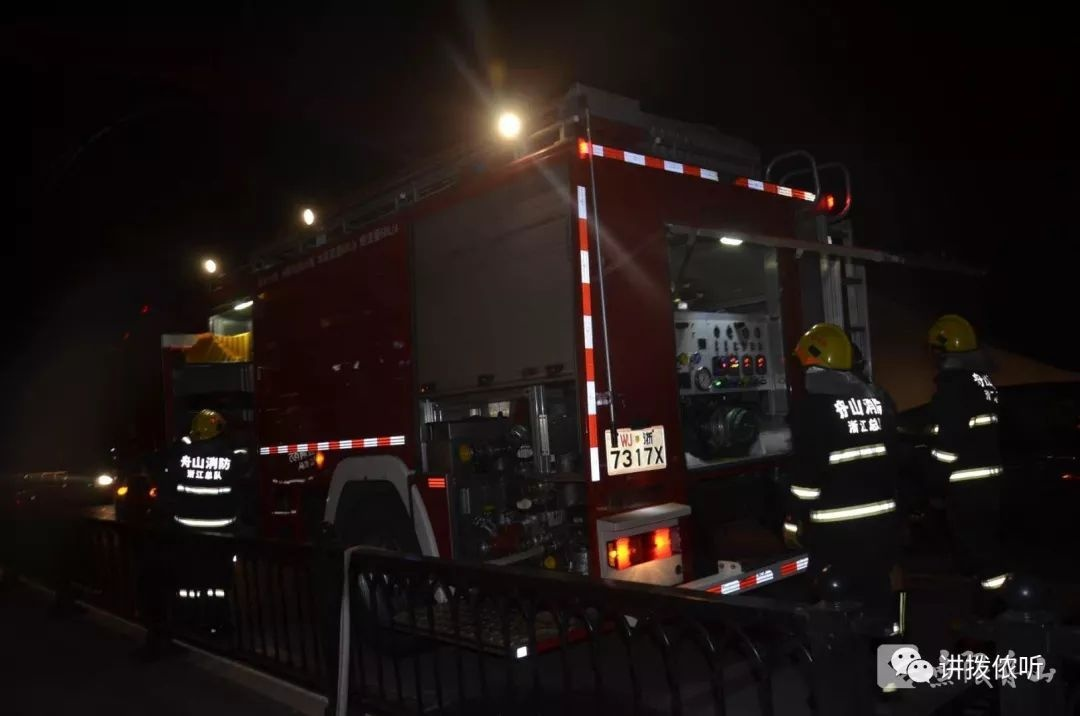yellow: (793, 322, 857, 389), (928, 311, 980, 371), (188, 406, 228, 446)
